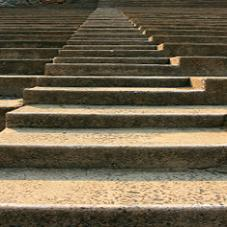Stair Up: (0, 4, 227, 227)
